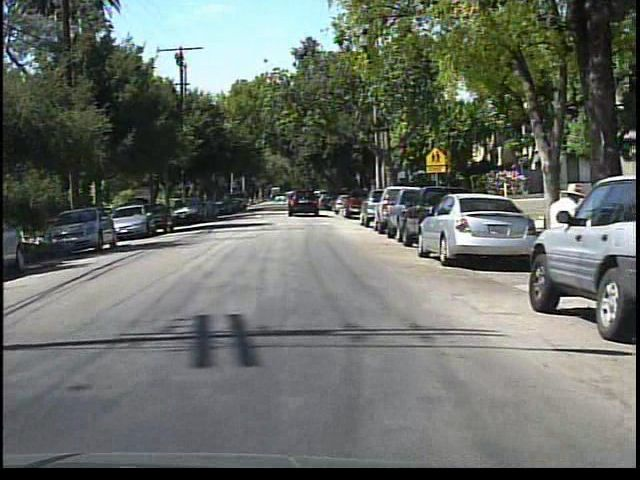person: (544, 176, 586, 304)
